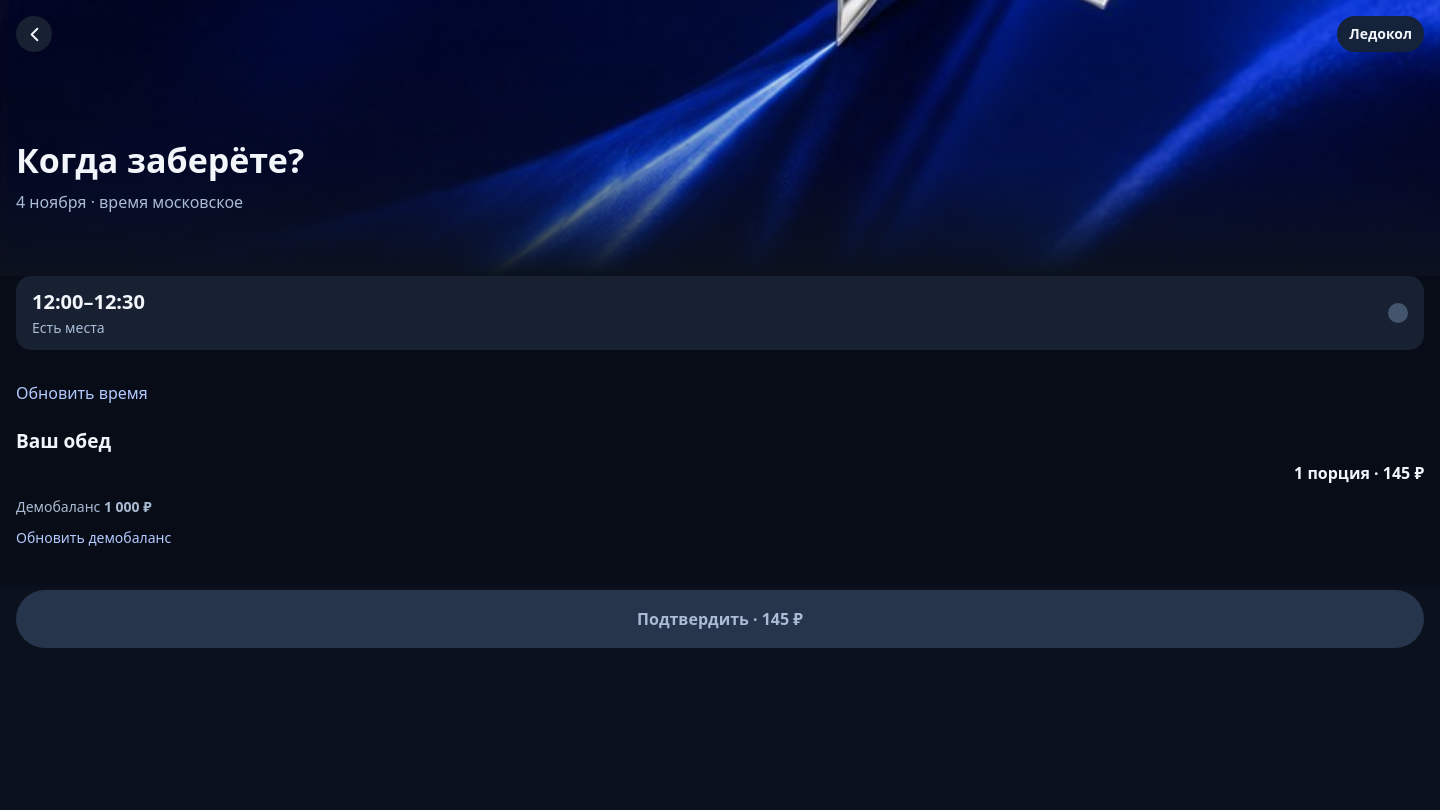
demo funds and refund evidence follow server responses, not a local success counter
The width and height of the screenshot is (1440, 810).
Expected: the element named "Демонстрационный баланс" is shown, [16,497,171,560]
Click the button with aria-label "12:00–12:30 · Есть места" at [88, 302], box [16,276,1424,350]
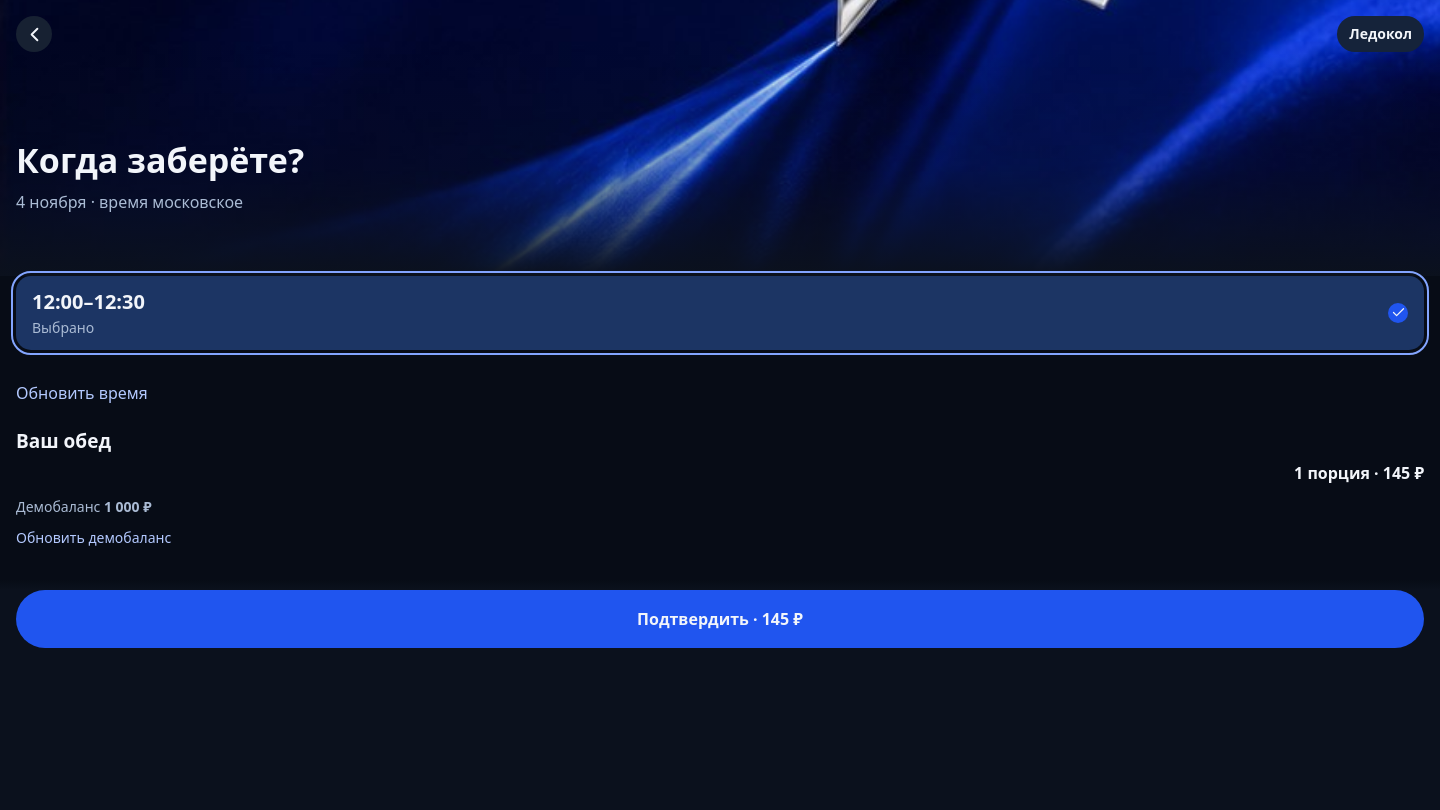
Click the button "Подтвердить · 145 ₽" at [720, 619], box [16,590,1424,648]
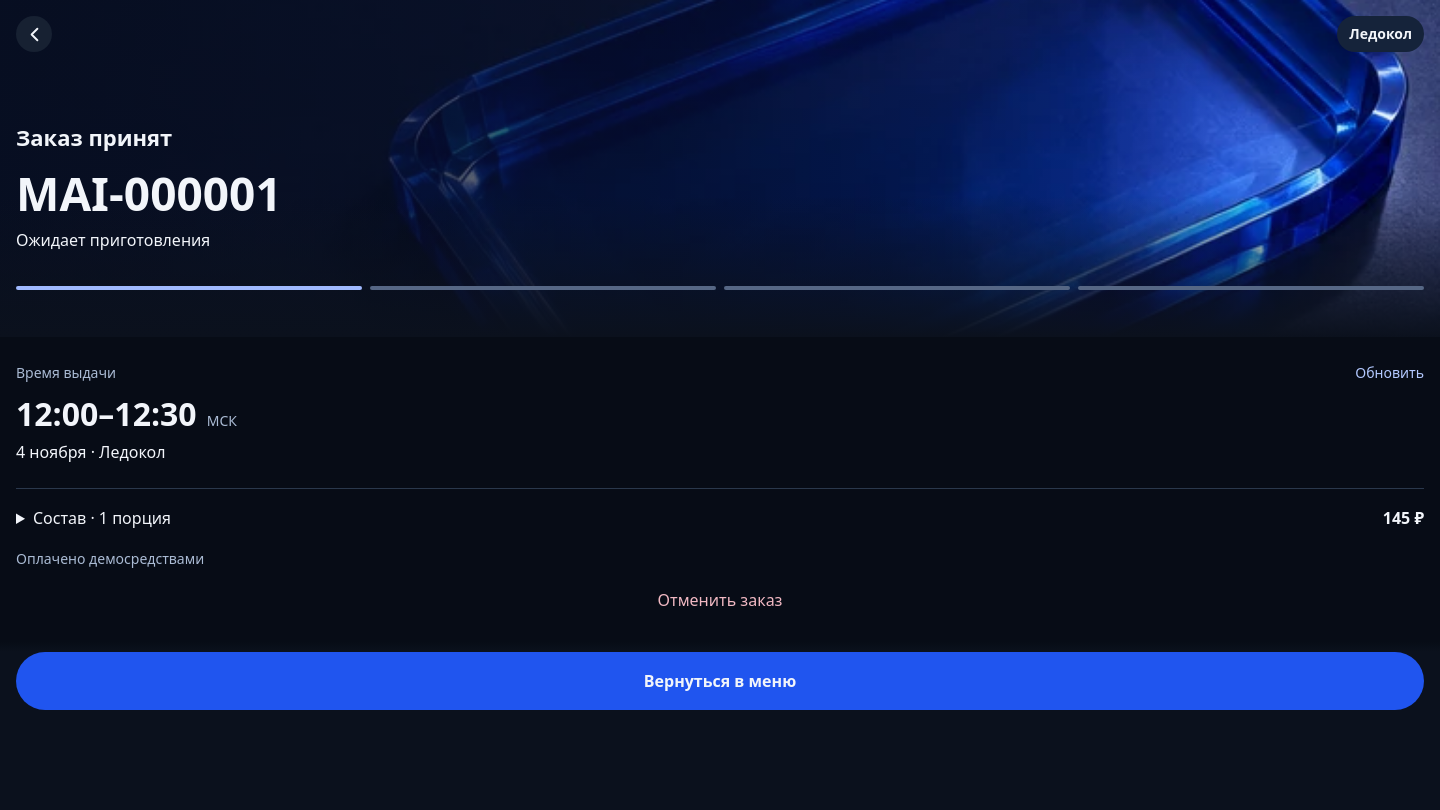
Click the button "Отменить заказ" at [720, 600], box [658,578,782,622]
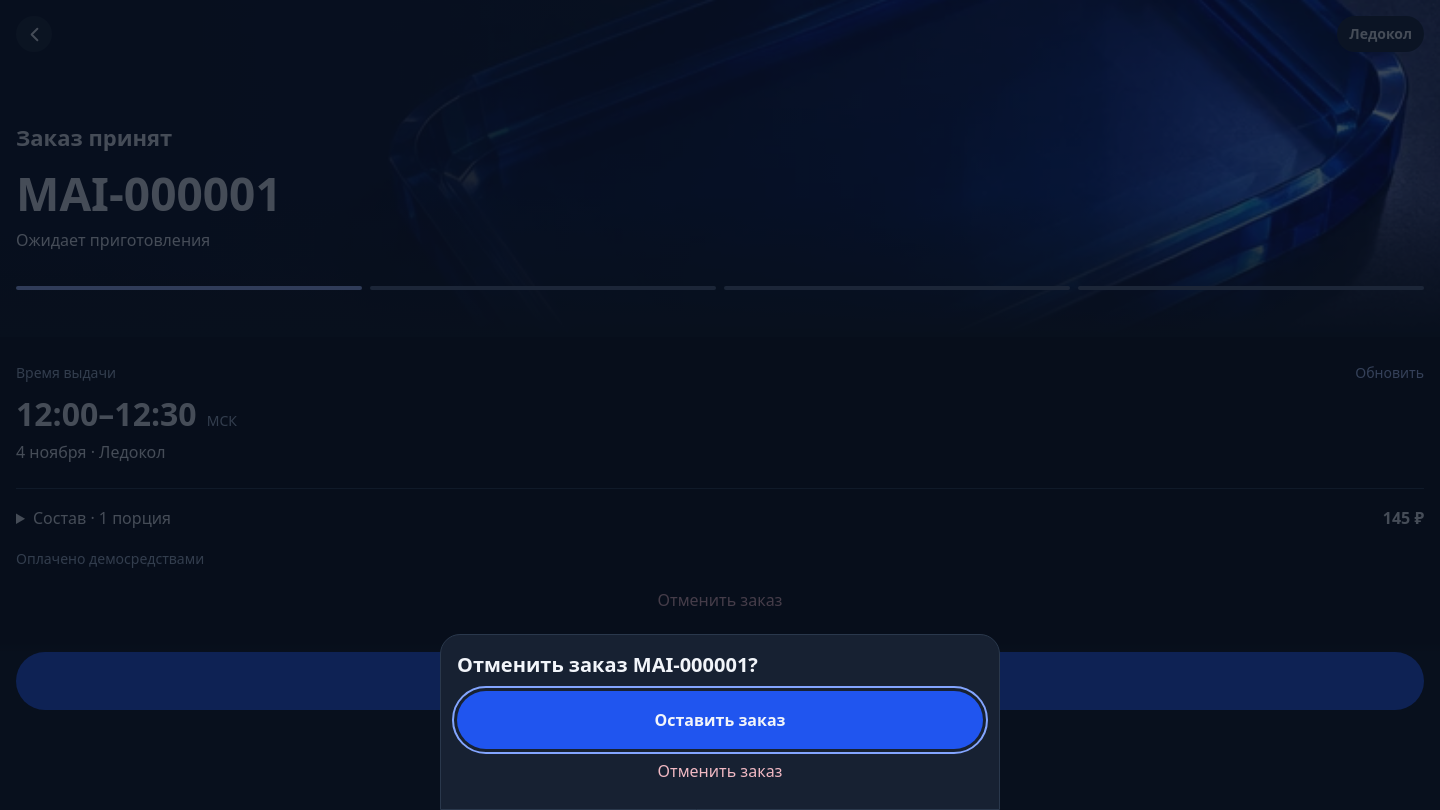
Click the button "Отменить заказ" below "Отменить заказ MAI-000001?" at [720, 771], box [658,749,782,793]
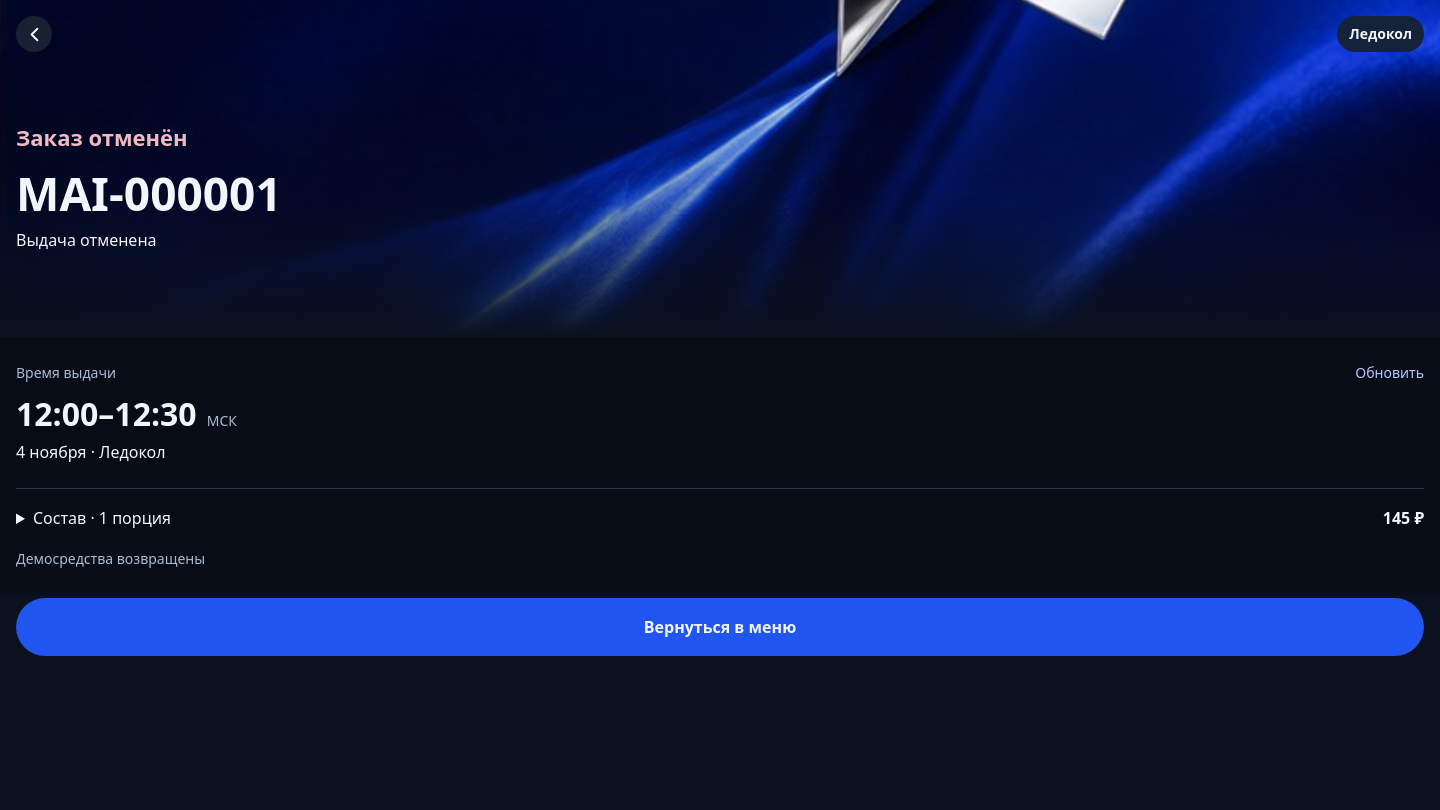
Expected: the button "Отменить заказ" is gone
